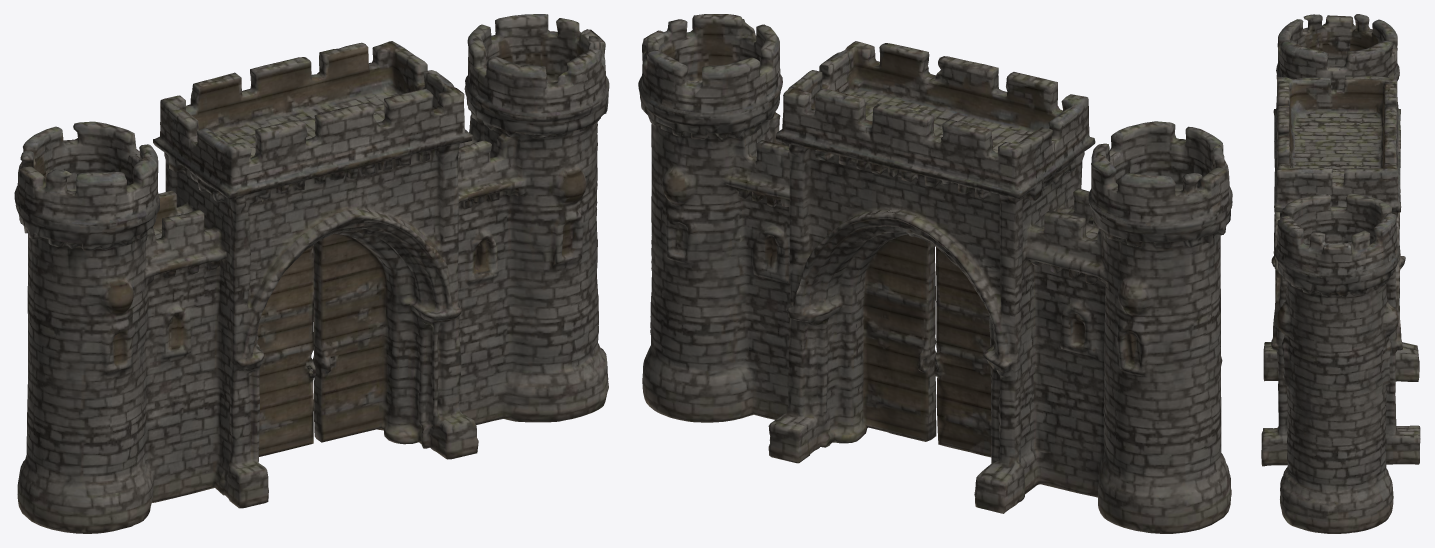
Rendered from castle_gate_towers.glb.
The picture shows the model from 3 angles, left to right: view 1: azimuth 30°, elevation 25°; view 2: azimuth 150°, elevation 25°; view 3: azimuth 270°, elevation 25°; orthographic projection. The views are drawn at different scales.
Visible parts, largest first — view 1: castle_gate_towers; view 2: castle_gate_towers; view 3: castle_gate_towers.
Part boxes in pixels (x1=…): castle_gate_towers: x1=14, y1=14, x2=609, y2=533; castle_gate_towers: x1=638, y1=14, x2=1232, y2=533; castle_gate_towers: x1=1261, y1=14, x2=1420, y2=533.
Size of the model in its own units: 15.99 by 9.71 by 4.61.
Materials: 1 (1 with a texture image).
